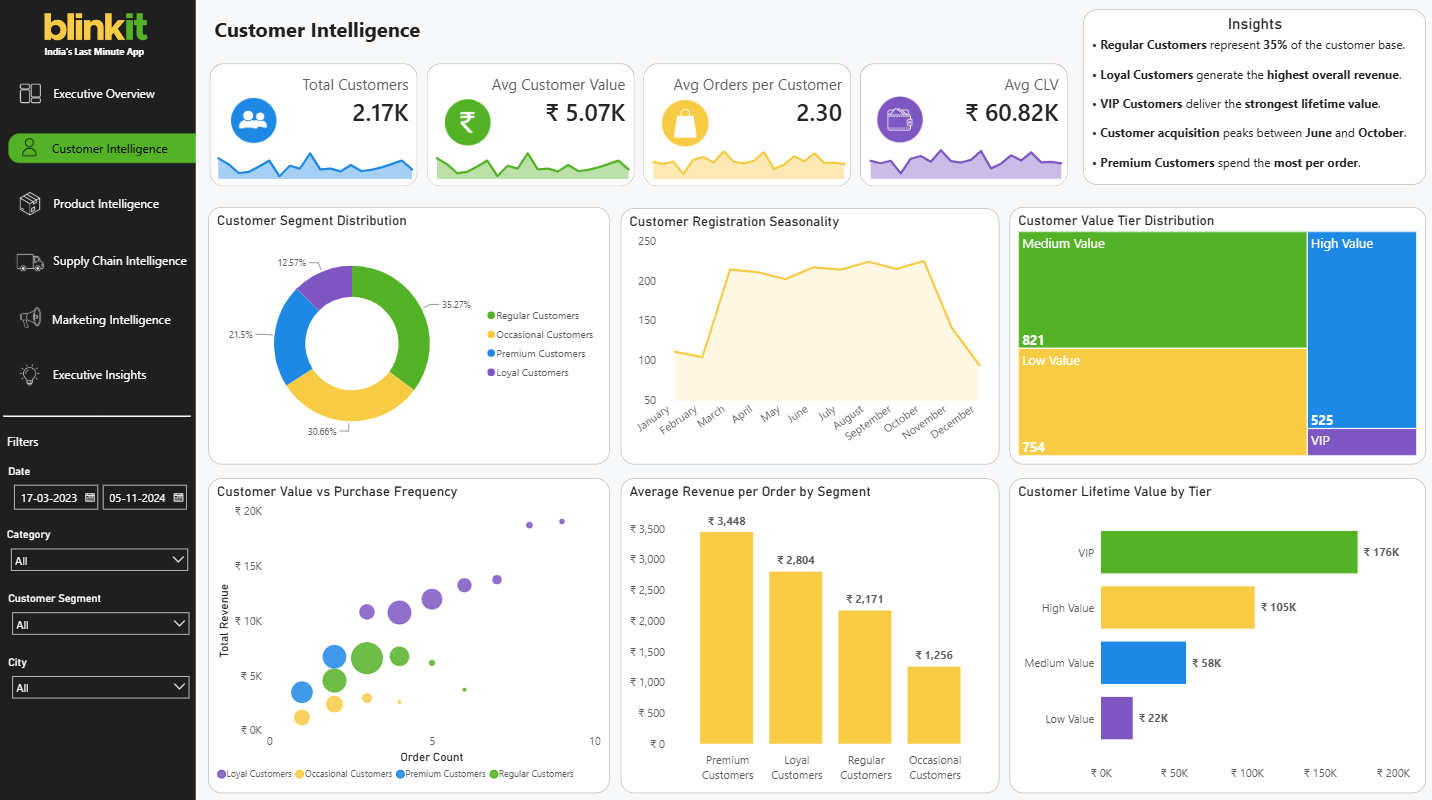

The page's visual inventory and layout, read from the dashboard file:
{"tool":"powerbi","page":{"name":"Duplicate of Dashboard","canvas":[1920,1080],"ordinal":2},"visuals":[{"type":"shape","box":[0,0,266.7,1080],"z":0},{"type":"cardVisual","fields":{"Data":["CountNonNull(customer_clv.customer_id)","Avg(customer_clv.total_revenue)","Avg(customer_clv.order_count)","Avg(customer_clv.clv)"]},"box":[266.7,71.7,1181.7,198.3],"z":0,"group":"g8"},{"type":"shape","box":[20.4,107.2,221.1,44.4],"z":0,"group":"g1"},{"type":"shape","box":[17.8,181.7,240,44.4],"z":0,"group":"g2"},{"type":"shape","box":[15.7,182.1,268.8,40],"z":0,"group":"g3"},{"type":"shape","box":[17.8,255.2,240,44.4],"z":0,"group":"g4"},{"type":"shape","box":[20.4,332.2,240,44.4],"z":0,"group":"g5"},{"type":"shape","box":[20.4,406.5,240,44.4],"z":0,"group":"g6"},{"type":"shape","box":[17.8,481.7,240,44.4],"z":0,"group":"g7"},{"type":"lineChart","fields":{"Category":["customer_clv.total_orders"],"Y":["CountNonNull(customer_clv.customer_id)"]},"box":[558,185.4,299,62.8],"z":500,"group":"g8"},{"type":"group","id":"g1","title":"EO_Inactive","box":[20.4,107.2,221.2,44.4],"z":1000},{"type":"textbox","box":[70.7,111.8,156.6,35],"z":1000,"group":"g1"},{"type":"textbox","box":[69.5,185.6,190,31.4],"z":1000,"group":"g3"},{"type":"lineChart","fields":{"Y":["Avg(customer_clv.total_revenue)"],"Category":["customer_clv.total_orders"]},"box":[847.3,185.7,298.6,63.2],"z":1000,"group":"g8"},{"type":"textbox","box":[70.1,186.3,170,35.2],"z":1000,"group":"g2"},{"type":"textbox","box":[69.5,259.3,170,35.2],"z":1000,"group":"g4"},{"type":"textbox","box":[70.3,336.1,203.9,36.1],"z":1000,"group":"g5"},{"type":"textbox","box":[69.3,412.8,170,35.2],"z":1000,"group":"g6"},{"type":"textbox","box":[65,486.9,141.6,34.8],"z":1000,"group":"g7"},{"type":"image","box":[28.7,108.8,32.2,41],"z":2000,"group":"g1"},{"type":"lineChart","fields":{"Category":["customer_clv.total_orders"],"Y":["CountNonNull(customer_clv.customer_id)"]},"box":[266.8,185.4,302,62.8],"z":2000,"group":"g8"},{"type":"image","box":[25.6,187.3,34.8,33.2],"z":2000,"group":"g2"},{"type":"image","box":[27.1,187.9,32.5,27.1],"z":2000,"group":"g3"},{"type":"image","box":[25.6,259.3,34.5,35.5],"z":2000,"group":"g4"},{"type":"image","box":[25.1,334.9,38.4,39],"z":2000,"group":"g5"},{"type":"image","box":[28,408.3,32.9,38.4],"z":2000,"group":"g6"},{"type":"image","box":[27.9,485,30.3,38.1],"z":2000,"group":"g7"},{"type":"group","id":"g2","title":"CI_Inactive","box":[17.8,181.7,240,44.4],"z":3000},{"type":"lineChart","fields":{"Category":["customer_clv.total_orders"],"Y":["Avg(customer_clv.total_revenue)"]},"box":[1135.9,184,297.5,64.2],"z":3000,"group":"g8"},{"type":"group","id":"g3","title":"CI_Active","box":[15.7,182.1,268.8,40],"z":4000},{"type":"group","id":"g4","title":"PI_Inactive","box":[17.8,255.2,240,44.4],"z":5000},{"type":"image","box":[595,130.9,65,71.4],"z":6000,"group":"g8"},{"type":"image","box":[884.6,133.2,64.5,70],"z":7000,"group":"g8"},{"type":"group","id":"g5","title":"SCI_Inactive","box":[20.4,332.2,253.7,44.4],"z":7000},{"type":"image","box":[1172.3,127.3,65,73.3],"z":8000,"group":"g8"},{"type":"group","id":"g6","title":"MI_Inactive","box":[20.4,406.5,240,44.4],"z":9000},{"type":"image","box":[310,129.1,64.5,73.2],"z":11000,"group":"g8"},{"type":"group","id":"g7","title":"EI_Inactive","box":[17.8,481.7,240,44.4],"z":11000},{"type":"shape","box":[265,0,31.7,1080],"z":13000},{"type":"textbox","box":[285,20,301.7,51.7],"z":14000},{"type":"image","box":[62.7,20.7,137.3,39.6],"z":15000},{"type":"textbox","box":[58.8,57.6,144.2,28.8],"z":16000},{"type":"slicer","title":"Date","fields":{"Values":["inventory_master.date"]},"box":[10,623.6,255,76.4],"z":17000},{"type":"slicer","title":"Category","fields":{"Values":["inventory_master.category"]},"box":[8.6,708.6,256.4,71.4],"z":18000},{"type":"shape","box":[8,551.3,250,14.7],"z":19000},{"type":"textbox","box":[8.3,576.7,141.7,38.3],"z":20000},{"type":"slicer","title":"Customer Segment","fields":{"Values":["customer_segments.Customer Segment Clean"]},"box":[9.3,792.9,256.4,71.4],"z":21000},{"type":"slicer","title":"City","fields":{"Values":["customer_clv.area"]},"box":[10,878.6,256.4,71.4],"z":22000},{"type":"group","id":"g8","title":"card","box":[266.7,71.7,1181.7,198.3],"z":23000},{"type":"donutChart","title":"Customer Segment Distribution","fields":{"Category":["customer_segments.Customer Segment Clean"],"Y":["CountNonNull(customer_segments.customer_id)"]},"box":[281.7,280,535,343.3],"z":25000},{"type":"areaChart","title":"Customer Registration Seasonality","fields":{"Category":["customer_segments.registration_date.Variation.Date Hierarchy.Month"],"Y":["CountNonNull(customer_clv.customer_id)"]},"box":[831.7,281.7,505,341.7],"z":26000},{"type":"treemap","title":"Customer Value Tier Distribution","fields":{"Group":["customer_clv.Customer Value Tier"],"Values":["CountNonNull(customer_clv.customer_id)"]},"box":[1350,280,555,343.3],"z":27000},{"type":"scatterChart","title":"Customer Value vs Purchase Frequency","fields":{"Series":["customer_segments.Customer Segment Clean"],"X":["customer_segments.order_count"],"Y":["customer_segments.total_revenue"],"Size":["Sum(customer_clv.clv)"]},"box":[281.7,641.7,535,420],"z":28000},{"type":"columnChart","title":"Average Revenue per Order by Segment","fields":{"Category":["customer_segments.Customer Segment Clean"],"Y":["Avg(customer_segments.revenue_per_order)"]},"box":[831.7,641.7,505,420],"z":29000},{"type":"barChart","title":"Customer Lifetime Value by Tier","fields":{"Y":["Avg(customer_clv.clv)"],"Category":["customer_clv.Customer Value Tier"]},"box":[1350,641.7,555,420],"z":30000},{"type":"textbox","title":"Insights","box":[1448.3,16.7,456.7,233.3],"z":31000}]}

Visuals, with their boxes on the page's 1920x1080 design canvas (x1, y1, x2, y2). These are canvas units, not pixel positions in the 1432x800 screenshot, which may show the page scaled, cropped or inside an application window:
shape: (0, 0, 267, 1080)
cardVisual - CountNonNull(customer_clv.customer_id) x Avg(customer_clv.total_revenue): (267, 72, 1448, 270)
shape: (20, 107, 242, 152)
shape: (18, 182, 258, 226)
shape: (16, 182, 284, 222)
shape: (18, 255, 258, 300)
shape: (20, 332, 260, 377)
shape: (20, 406, 260, 451)
shape: (18, 482, 258, 526)
lineChart - customer_clv.total_orders x CountNonNull(customer_clv.customer_id): (558, 185, 857, 248)
"EO_Inactive" group: (20, 107, 242, 152)
textbox: (71, 112, 227, 147)
textbox: (70, 186, 260, 217)
lineChart - Avg(customer_clv.total_revenue) x customer_clv.total_orders: (847, 186, 1146, 249)
textbox: (70, 186, 240, 222)
textbox: (70, 259, 240, 294)
textbox: (70, 336, 274, 372)
textbox: (69, 413, 239, 448)
textbox: (65, 487, 207, 522)
image: (29, 109, 61, 150)
lineChart - customer_clv.total_orders x CountNonNull(customer_clv.customer_id): (267, 185, 569, 248)
image: (26, 187, 60, 220)
image: (27, 188, 60, 215)
image: (26, 259, 60, 295)
image: (25, 335, 64, 374)
image: (28, 408, 61, 447)
image: (28, 485, 58, 523)
"CI_Inactive" group: (18, 182, 258, 226)
lineChart - customer_clv.total_orders x Avg(customer_clv.total_revenue): (1136, 184, 1433, 248)
"CI_Active" group: (16, 182, 284, 222)
"PI_Inactive" group: (18, 255, 258, 300)
image: (595, 131, 660, 202)
image: (885, 133, 949, 203)
"SCI_Inactive" group: (20, 332, 274, 377)
image: (1172, 127, 1237, 201)
"MI_Inactive" group: (20, 406, 260, 451)
image: (310, 129, 374, 202)
"EI_Inactive" group: (18, 482, 258, 526)
shape: (265, 0, 297, 1080)
textbox: (285, 20, 587, 72)
image: (63, 21, 200, 60)
textbox: (59, 58, 203, 86)
"Date" slicer: (10, 624, 265, 700)
"Category" slicer: (9, 709, 265, 780)
shape: (8, 551, 258, 566)
textbox: (8, 577, 150, 615)
"Customer Segment" slicer: (9, 793, 266, 864)
"City" slicer: (10, 879, 266, 950)
"card" group: (267, 72, 1448, 270)
"Customer Segment Distribution" donutChart: (282, 280, 817, 623)
"Customer Registration Seasonality" areaChart: (832, 282, 1337, 623)
"Customer Value Tier Distribution" treemap: (1350, 280, 1905, 623)
"Customer Value vs Purchase Frequency" scatterChart: (282, 642, 817, 1062)
"Average Revenue per Order by Segment" columnChart: (832, 642, 1337, 1062)
"Customer Lifetime Value by Tier" barChart: (1350, 642, 1905, 1062)
"Insights" textbox: (1448, 17, 1905, 250)
